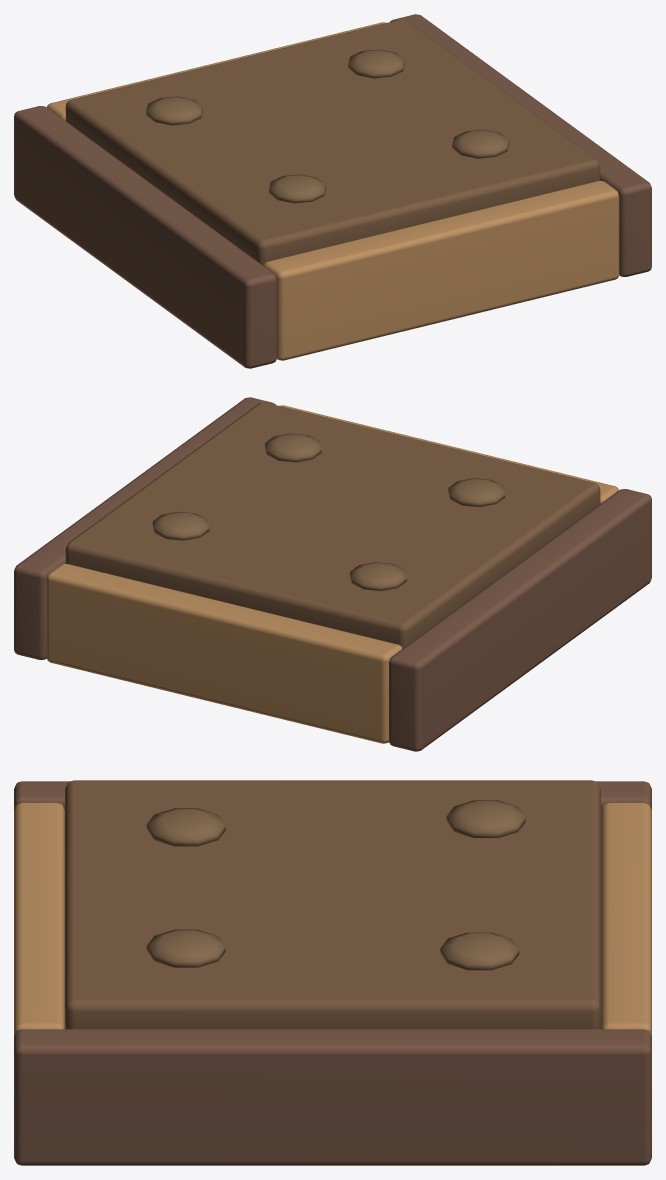
Rendered from garden.herb.mint-seed.glb.
3 renders of one model, top to bottom at view 1: azimuth 30°, elevation 25°; view 2: azimuth 150°, elevation 25°; view 3: azimuth 270°, elevation 25°, orthographic. The views are drawn at different scales.
Visible parts, largest first — view 1: Cedar raised bed rail; view 2: Cedar raised bed rail; view 3: Cedar raised bed rail.
Part boxes in pixels (x1,y1,x2,y2): Cedar raised bed rail: [14, 14, 651, 368]; Cedar raised bed rail: [14, 397, 651, 751]; Cedar raised bed rail: [14, 780, 651, 1165].
Bounding box in the file's own units: 1 × 0.2725 × 1.
